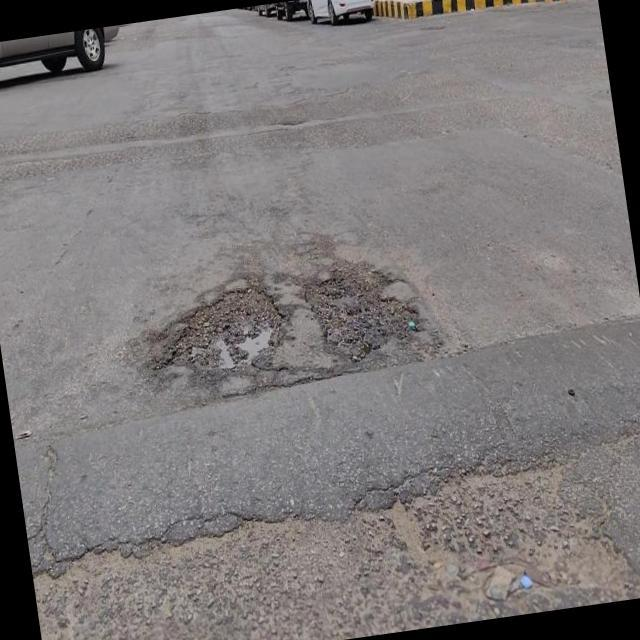Pothole: (300, 256, 420, 363), (164, 278, 284, 372)
